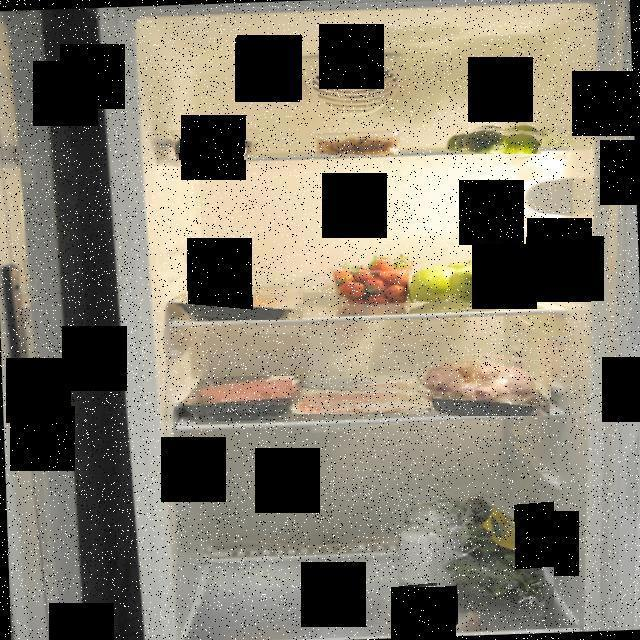apple: (411, 259, 507, 313)
beef: (176, 282, 303, 320)
blueberries: (175, 132, 258, 160)
chicken: (420, 348, 552, 416)
ground_beef: (192, 376, 294, 411)
ham: (292, 378, 432, 414)
heavy_cream: (207, 240, 247, 290)
lime: (442, 122, 542, 154)
shrimp: (314, 136, 398, 157)
spinach: (436, 494, 554, 626)
strawberries: (329, 255, 416, 303)
sugar: (398, 500, 466, 590)
